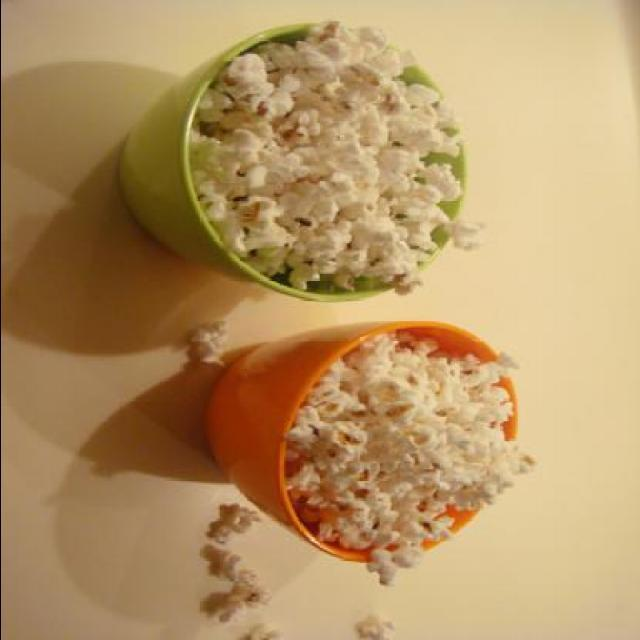Popcorn: (186, 10, 480, 292), (283, 332, 520, 584), (188, 324, 235, 372), (213, 505, 264, 543), (234, 571, 276, 609), (213, 547, 253, 582), (208, 598, 248, 628), (360, 618, 398, 640), (248, 622, 284, 640)
